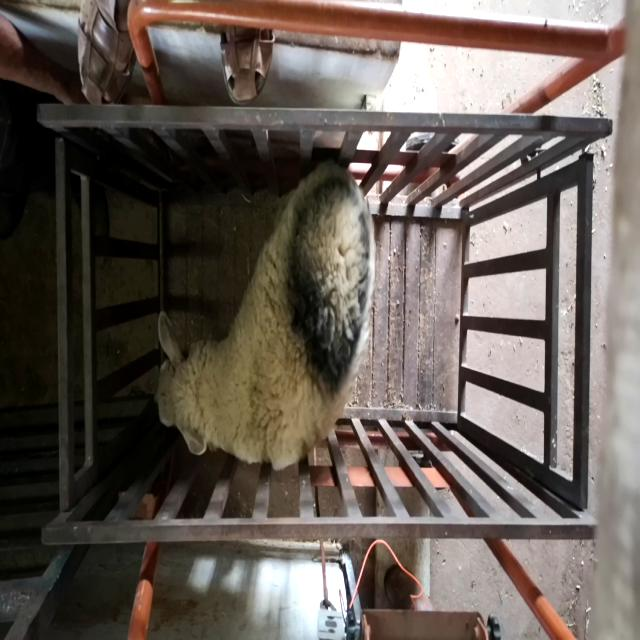sheep: (153, 159, 377, 471)
